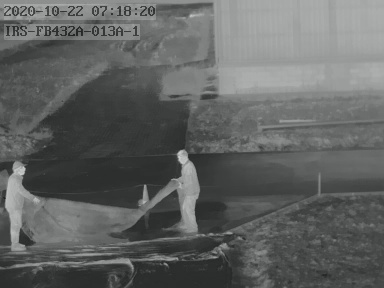person: (5, 161, 40, 250), (171, 149, 200, 233)
